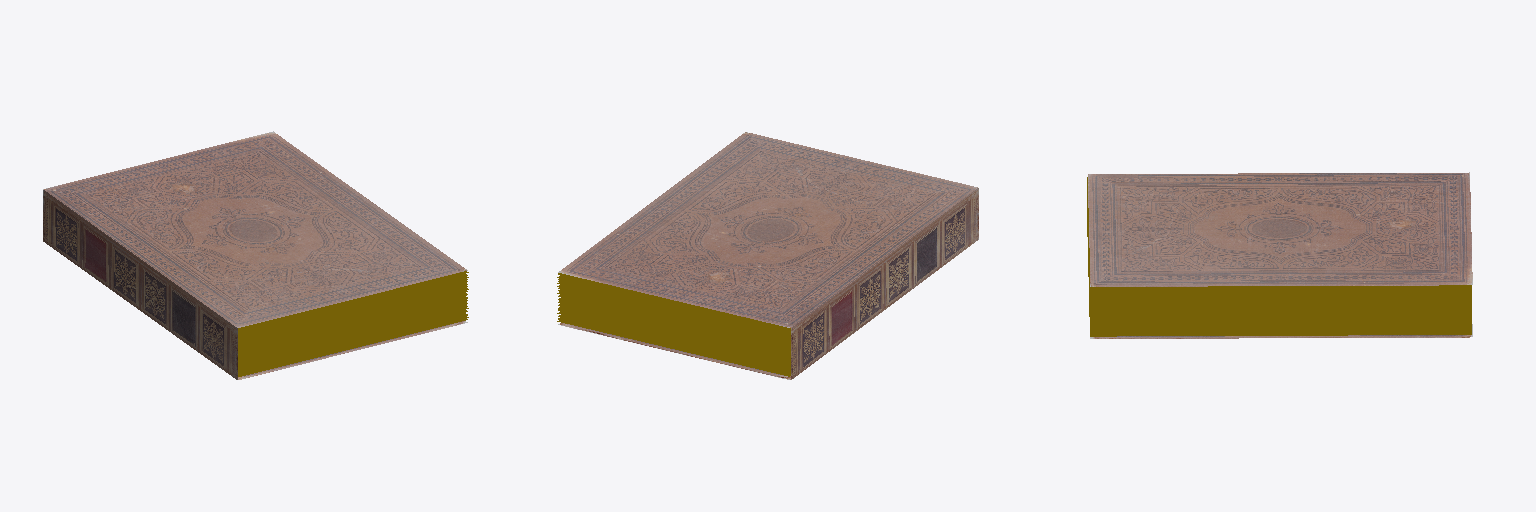
The picture shows the model from 3 angles: view 1: azimuth 30°, elevation 25°; view 2: azimuth 150°, elevation 25°; view 3: azimuth 270°, elevation 25°; orthographic projection.
Parts seen in each view (by area): view 1: sites_Plane, Plane_019; view 2: sites_Plane, Plane_019; view 3: sites_Plane, Plane_019.
Part boxes in pixels (x1,y1,x2,y2): sites_Plane: (43, 131, 467, 379); Plane_019: (238, 271, 468, 376); sites_Plane: (558, 132, 978, 379); Plane_019: (557, 273, 790, 376); sites_Plane: (1088, 172, 1472, 338); Plane_019: (1087, 177, 1471, 336).
Bounding box in the file's own units: 0.2222 × 0.0472 × 0.3148.
Materials: 2 (1 with a texture image).